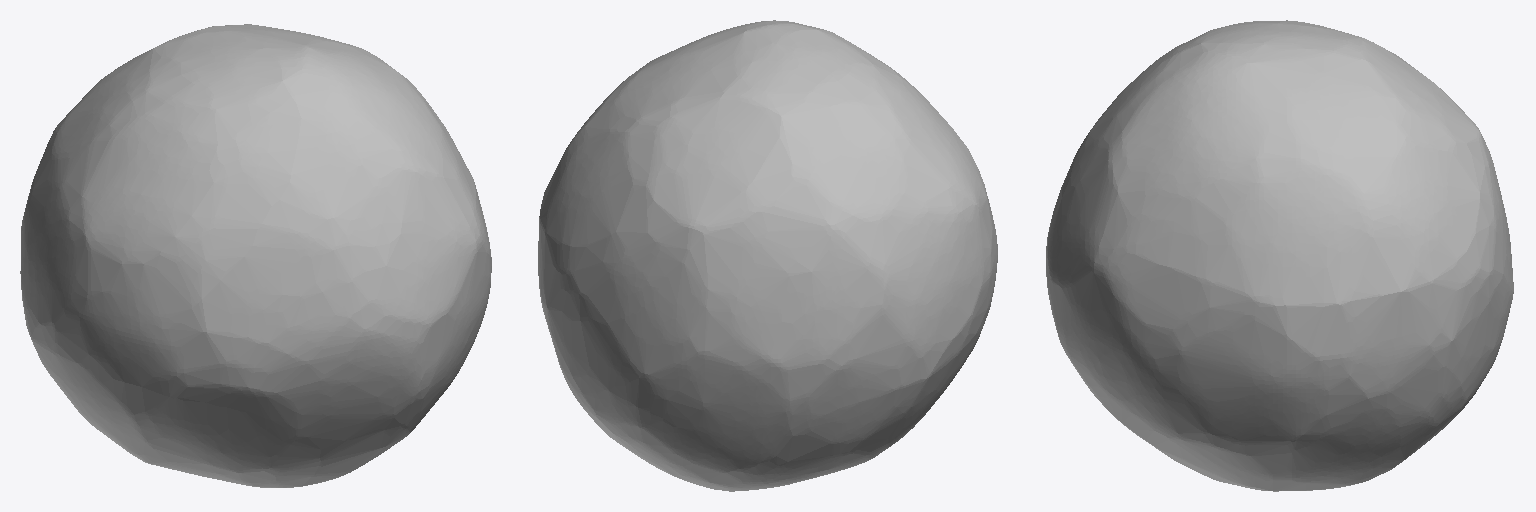
URDF robot description (root):
<robot name="root">
  <link name="link_coacd_convex_piece_0">
    <inertial>
      <origin xyz="0 0 0" rpy="0 0 0"/>
      <inertia ixx="1.08E+00" ixy="6.23E-03" ixz="1.15E-02" iyy="1.08E+00" iyz="2.26E-02" izz="1.08E+00"/>
    </inertial>
    <visual>
      <origin xyz="0 0 0" rpy="0 0 0"/>
      <geometry>
        <mesh filename="coacd_convex_piece_0.obj" scale="1.0000E+00 1.0000E+00 1.0000E+00"/>
      </geometry>
      <material name="">
        <color rgba="7.50E-01 7.50E-01 7.50E-01 1"/>
      </material>
    </visual>
    <collision>
      <origin xyz="0 0 0" rpy="0 0 0"/>
      <geometry>
        <mesh filename="coacd_convex_piece_0.obj" scale="1.0000E+00 1.0000E+00 1.0000E+00"/>
      </geometry>
    </collision>
  </link>
</robot>

--- What the picture shows (computed from the rendered views, not written in the file) ---
The picture shows the robot from 3 angles, left to right: view 1: azimuth 30°, elevation 25°; view 2: azimuth 150°, elevation 25°; view 3: azimuth 270°, elevation 25°; orthographic projection.
Robot: root — 1 links, 0 joints (none); root link link_coacd_convex_piece_0; default pose: all joints at 0.
Visible links, largest first — view 1: link_coacd_convex_piece_0; view 2: link_coacd_convex_piece_0; view 3: link_coacd_convex_piece_0.
Boxes of the visible links, x1=… form: link_coacd_convex_piece_0: x1=20, y1=24, x2=491, y2=487; link_coacd_convex_piece_0: x1=538, y1=20, x2=997, y2=491; link_coacd_convex_piece_0: x1=1046, y1=20, x2=1513, y2=491.
Size in the robot's own frame: 1.87 by 1.87 by 1.83 metres.
1 mesh visuals loaded from 1 distinct referenced files (1 OBJ).